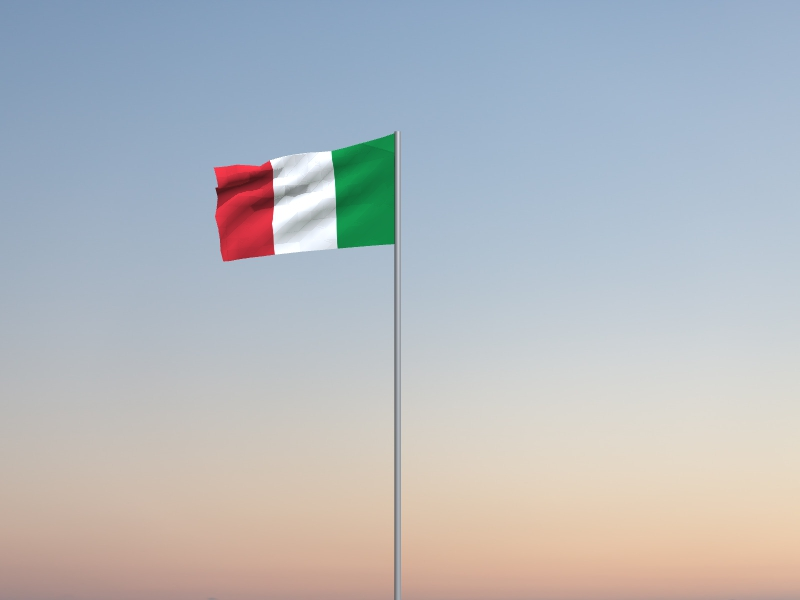it: (213, 134, 395, 263)
